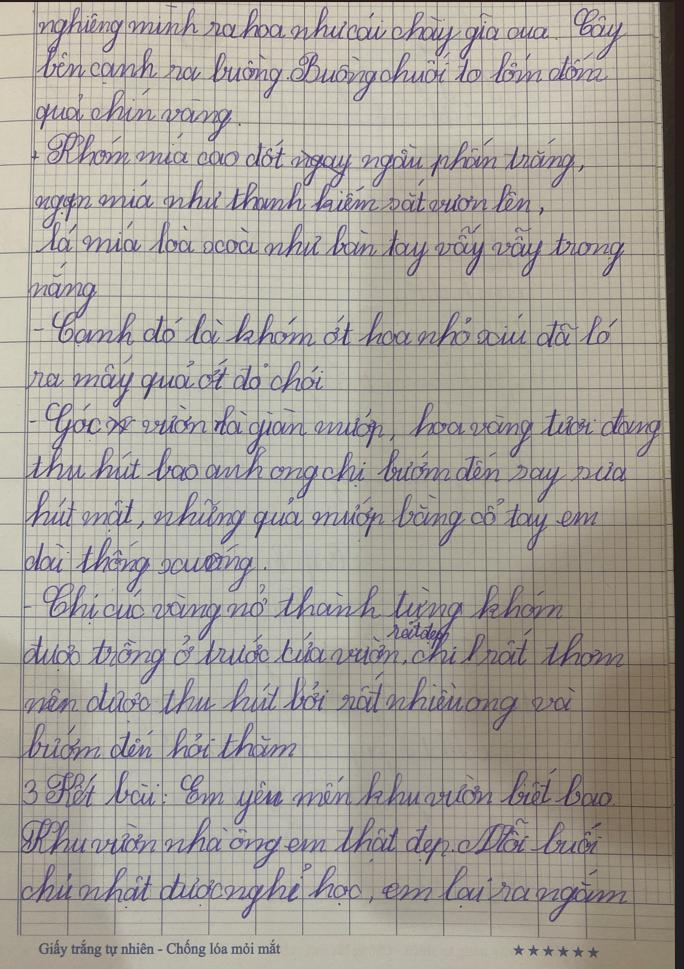text: (20, 618, 629, 688), (17, 861, 632, 927), (26, 440, 631, 506), (21, 765, 615, 829), (24, 488, 602, 553), (40, 399, 664, 459), (34, 218, 627, 281), (35, 44, 610, 106), (22, 673, 578, 737), (20, 812, 608, 871), (34, 4, 627, 62), (29, 130, 587, 191), (40, 581, 566, 645), (34, 176, 546, 233), (32, 306, 622, 352), (27, 354, 327, 412), (22, 532, 257, 600), (22, 719, 302, 765), (32, 87, 242, 143), (35, 937, 282, 963), (24, 259, 100, 322)
